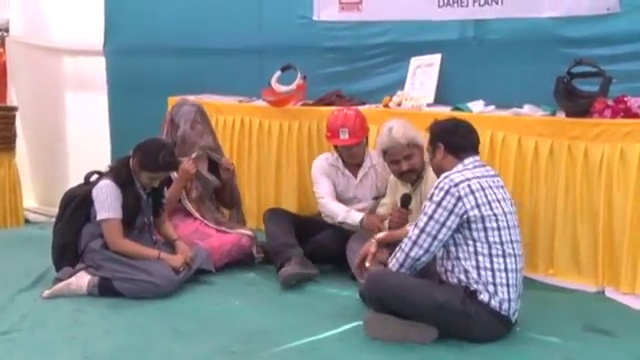helmet: (321, 107, 374, 147)
helmet_off: (423, 119, 482, 183), (376, 119, 428, 185), (126, 138, 179, 195), (168, 103, 214, 163)
helmet_on: (321, 110, 372, 172)
person: (341, 116, 527, 342), (47, 139, 195, 299), (262, 100, 386, 278), (151, 96, 251, 277), (349, 116, 439, 282)
